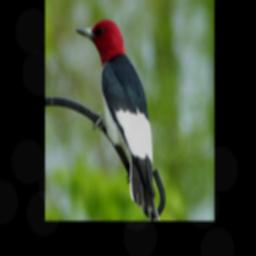Woodpecker: (74, 18, 162, 220)
